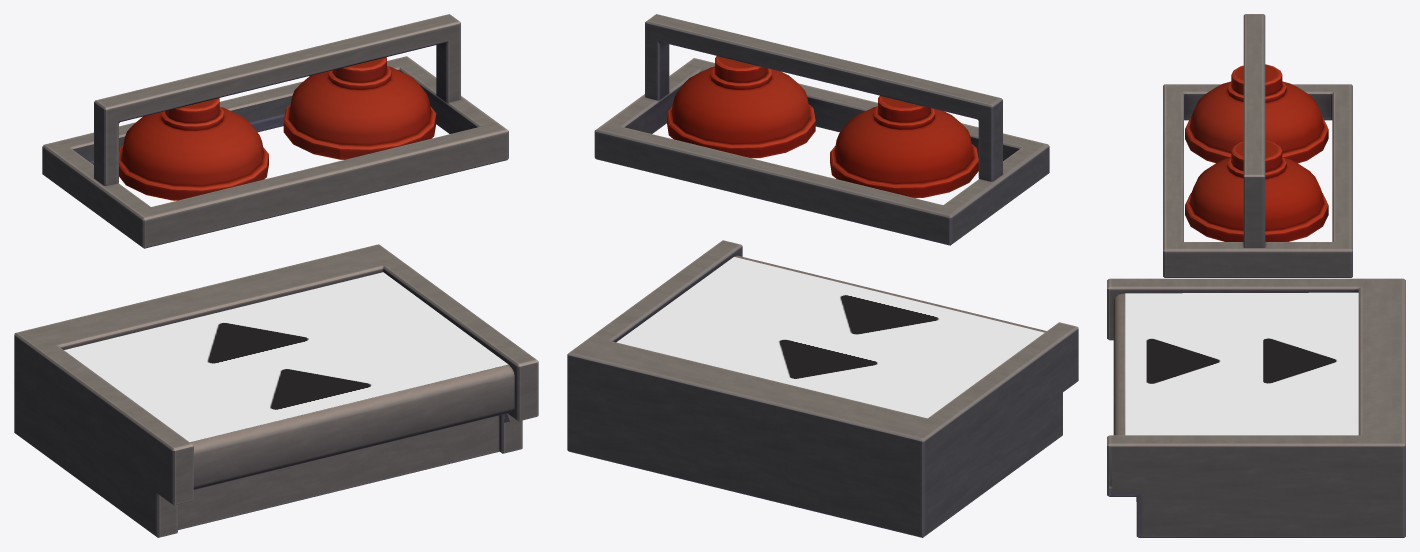
Rendered from serveDishes.glb.
The picture shows the model from 3 angles, left to right: view 1: azimuth 30°, elevation 25°; view 2: azimuth 150°, elevation 25°; view 3: azimuth 270°, elevation 25°; orthographic projection. The views are drawn at different scales.
Parts seen in each view (by area): view 1: Object_4.003, direction; view 2: Object_4.003, direction; view 3: Object_4.003, direction.
Boxes of the visible parts, x1,y1,x2,y2 form: Object_4.003: (14,14,538,537); direction: (64,272,508,441); Object_4.003: (567,14,1078,537); direction: (616,257,1044,418); Object_4.003: (1107,14,1405,537); direction: (1125,292,1358,435).
Bounding box in the file's own units: 4 × 4.05 × 3.04.
2 materials, 2 textured.
